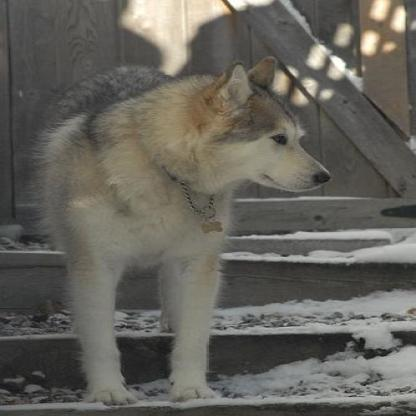Siberian_husky: (26, 50, 326, 404)
